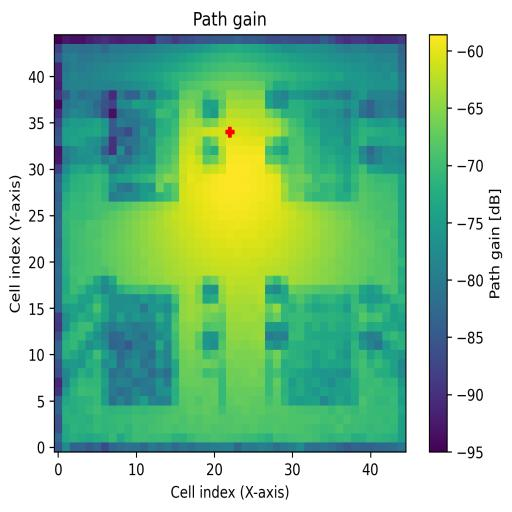Concrete: (280, 92, 359, 201)
Glass: (101, 90, 180, 202)
Metal: (281, 284, 360, 404)
Wood: (101, 284, 180, 405)
